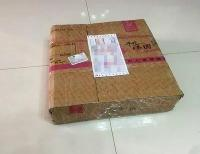undamaged: (46, 19, 186, 126)
